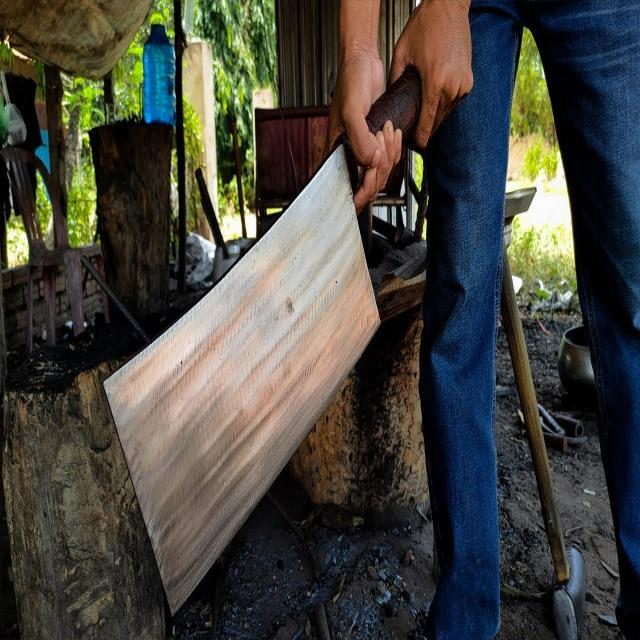cleaver: (98, 0, 476, 612)
